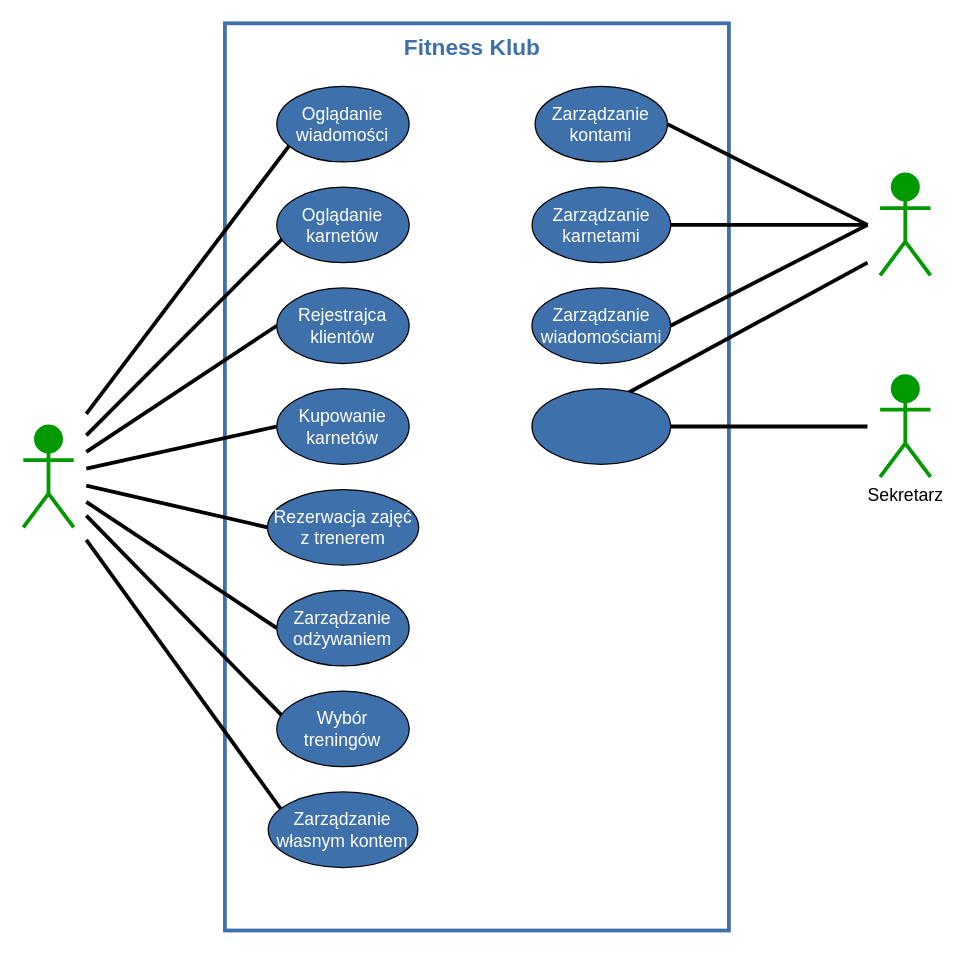
This 979x954 diagram has some shape labels left out. Here are the shapes that lost their labels. From the top down, the centre of each, then its label:
At (x=905, y=224): "Administrator".
At (x=601, y=425): "Zarządzanie rezerwacjami".
At (x=48, y=476): "Klient".
